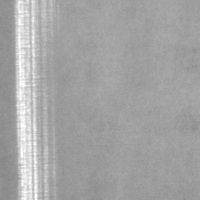scratches: (15, 1, 56, 199)
